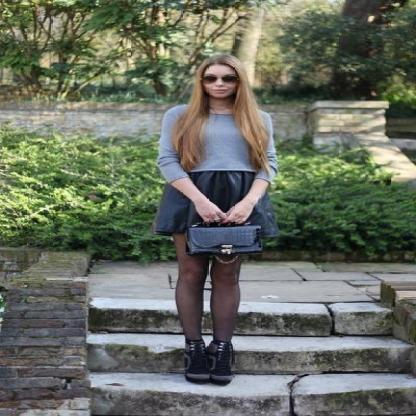bag: (187, 225, 260, 268)
shirt: (140, 108, 284, 187)
shoe: (168, 341, 236, 385)
skirt: (144, 171, 276, 240)
